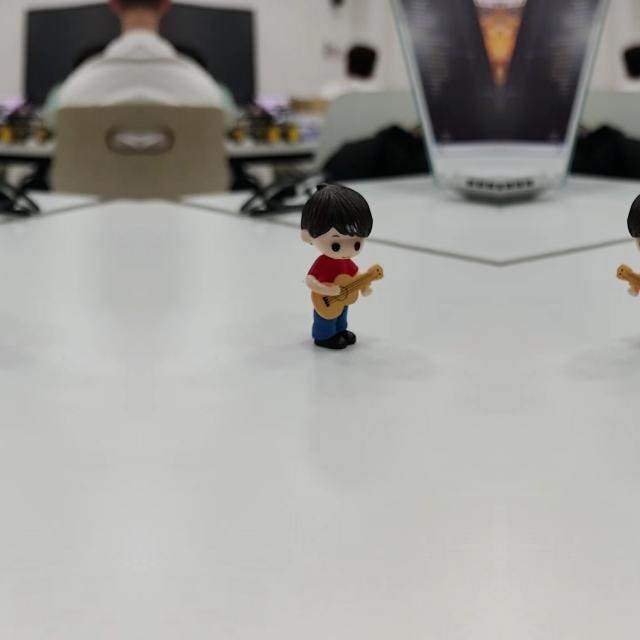man cloth: (306, 252, 362, 292), (638, 252, 640, 292)
man head: (302, 180, 376, 260), (624, 180, 640, 259)
trousers: (307, 295, 359, 355)
